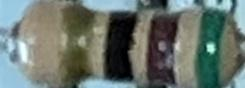Black: (103, 11, 141, 85)
Brown: (146, 10, 186, 88)
Green: (198, 7, 230, 88)
Side-Gold: (64, 0, 98, 87)
